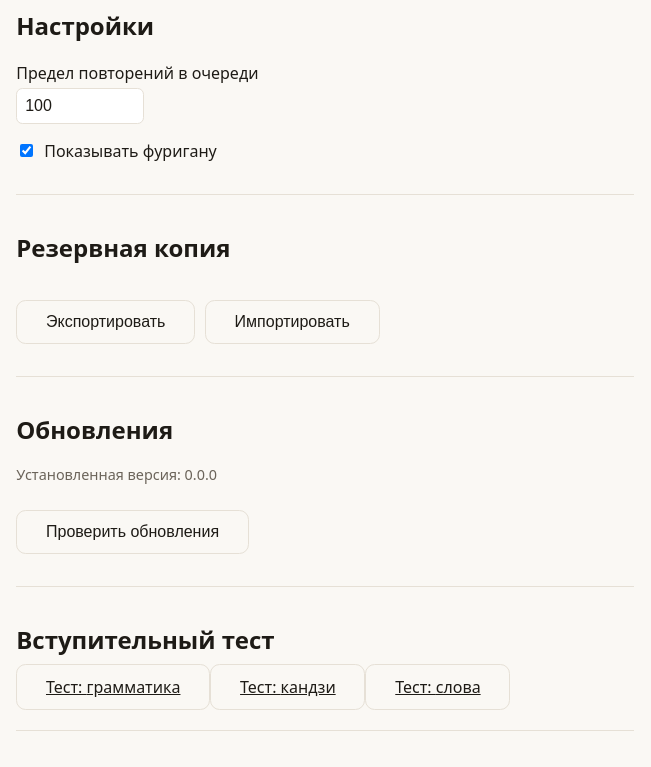
Test case: SettingsScreen › shows an error and does not write when imported bytes fail validation
The width and height of the screenshot is (651, 767).
Click the button "Импортировать": (292, 322) x1=205 y1=300 x2=380 y2=344
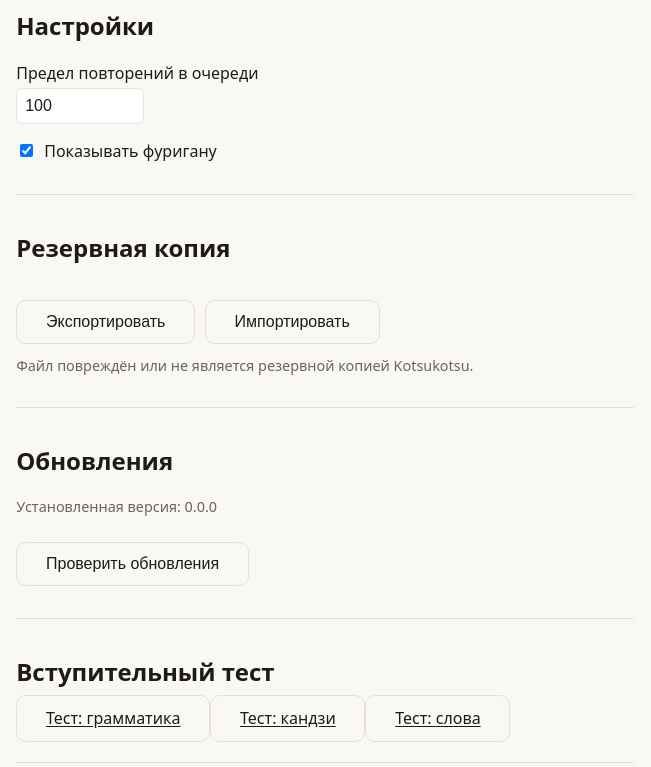
Now the text "Файл повреждён или не является резервной копией Kotsukotsu." is shown, box x1=16 y1=356 x2=473 y2=375
